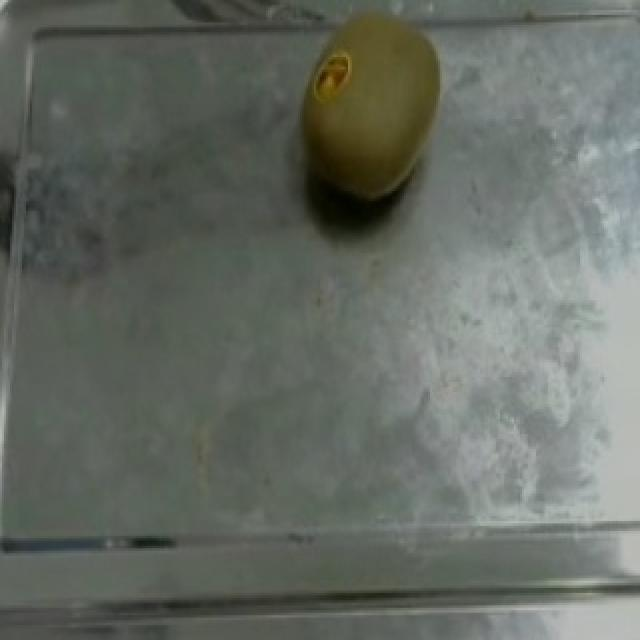Fruit: (282, 2, 456, 214)
